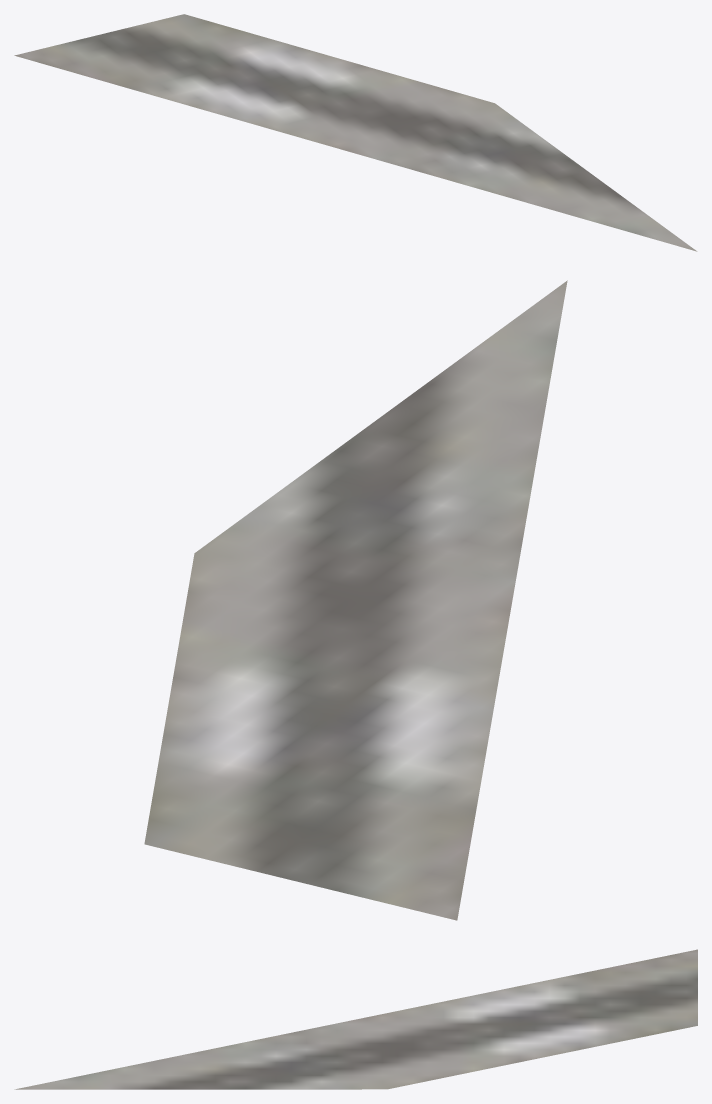
Rendered from LSZH_-2_2.glb.
3 renders of one model, top to bottom at view 1: azimuth 30°, elevation 25°; view 2: azimuth 150°, elevation 25°; view 3: azimuth 270°, elevation 25°, orthographic. The views are drawn at different scales.
Visible parts, largest first — view 1: pavement_LSZH_pavement_5365_2516; view 2: pavement_LSZH_pavement_5365_2516; view 3: pavement_LSZH_pavement_5365_2516.
Boxes of the visible parts, x1=… form: pavement_LSZH_pavement_5365_2516: x1=14, y1=14, x2=697, y2=251; pavement_LSZH_pavement_5365_2516: x1=144, y1=280, x2=567, y2=920; pavement_LSZH_pavement_5365_2516: x1=14, y1=949, x2=697, y2=1089.
Bounding box in the file's own units: 122 × 0.0461 × 252.
Materials: 1 (1 with a texture image).
